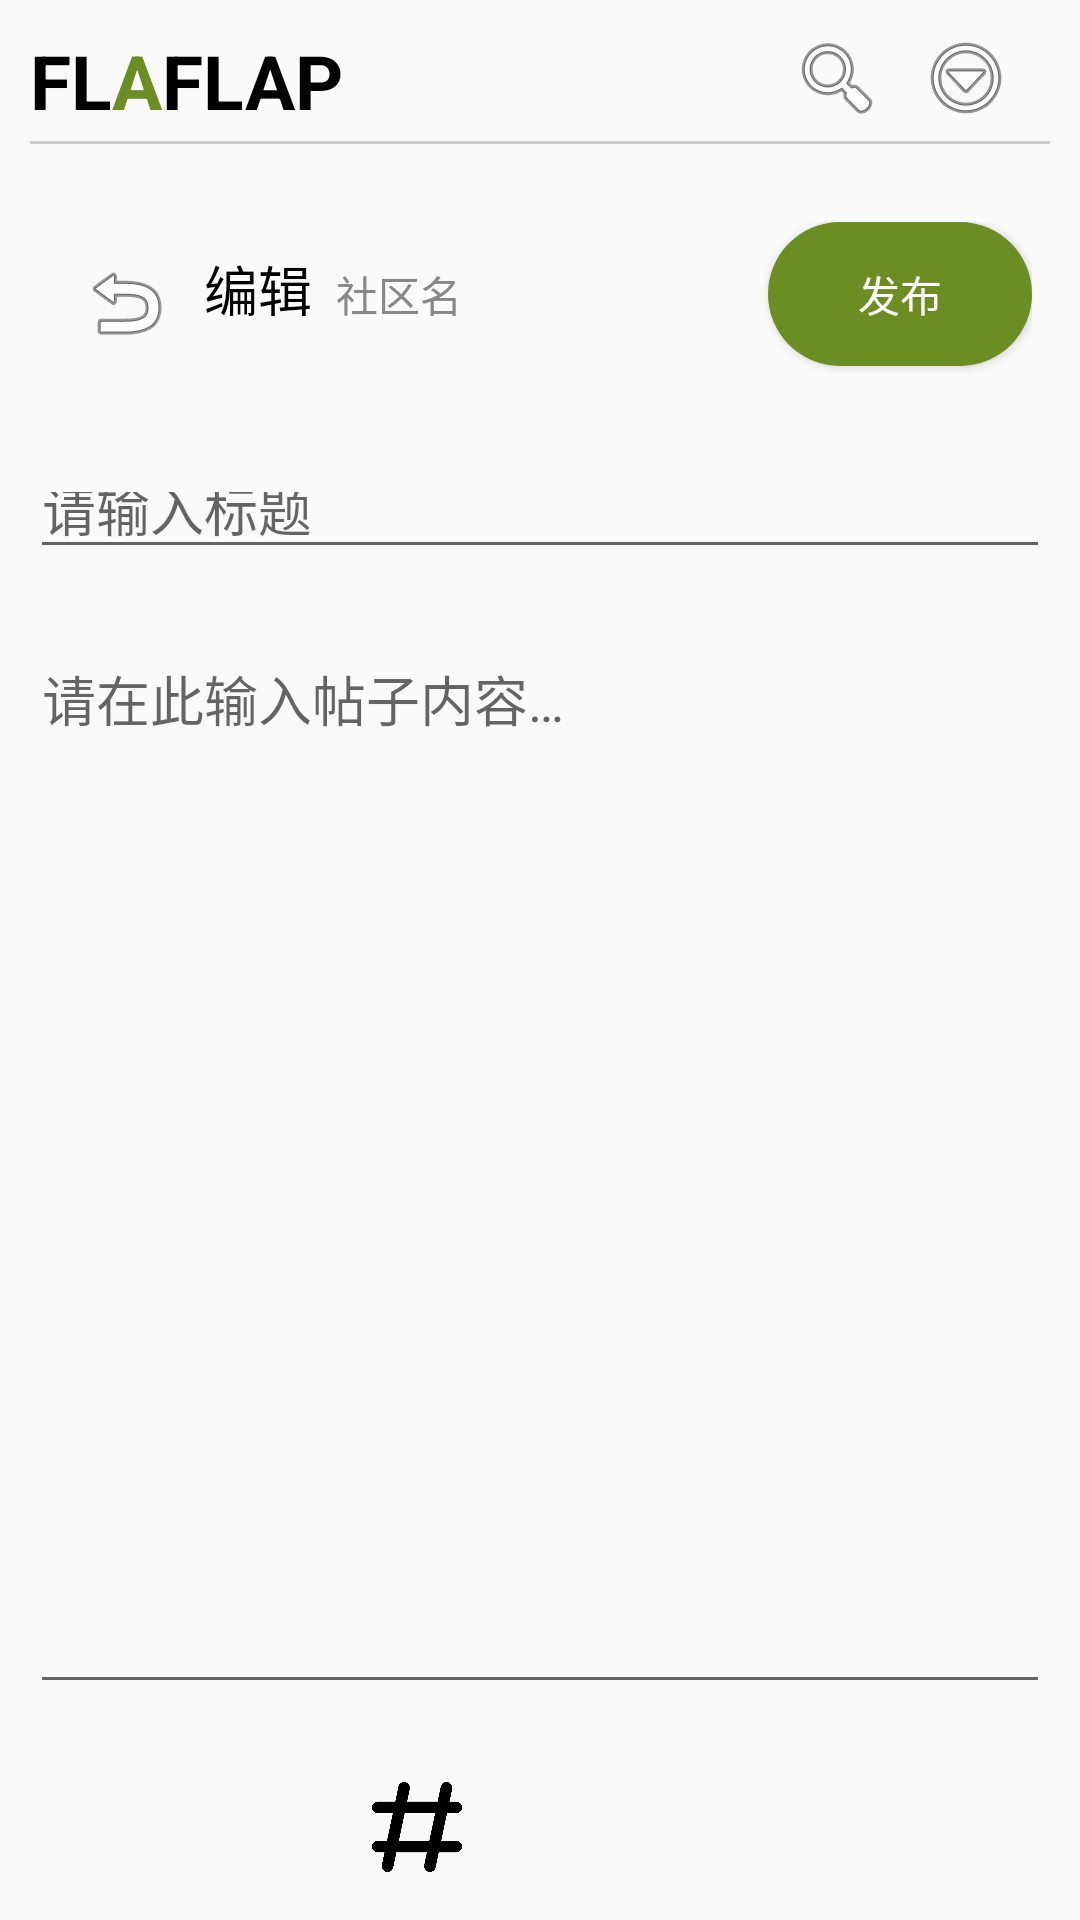

Icons on this 1080w x 1920h Android screen, each with its box as {"x1": x1, "y1": y1, "x2": x2, "y2": y2}:
back: {"x1": 93, "y1": 272, "x2": 162, "y2": 335}
hash: {"x1": 372, "y1": 1782, "x2": 462, "y2": 1872}
Menu: {"x1": 930, "y1": 42, "x2": 1002, "y2": 114}
Search: {"x1": 801, "y1": 43, "x2": 873, "y2": 114}
